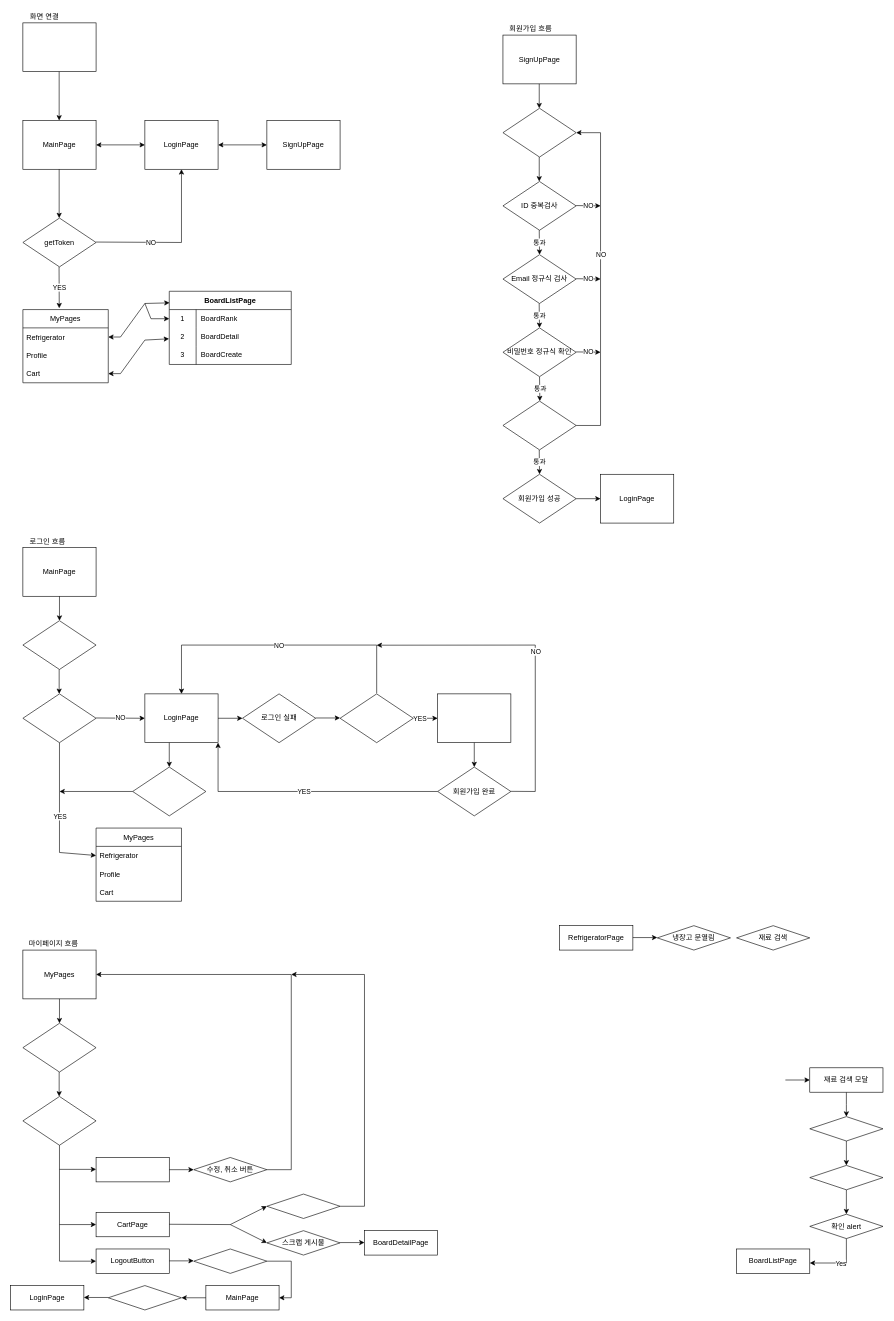
This 894x1321 diagram has some shape labels left out. Here are the shapes that lost their labels. From the top down, the box of each, then its label:
(22, 22, 96, 72): 웹 페이지 접속
(502, 108, 576, 157): 회원정보 입력
(502, 400, 576, 450): 닉네임 중복검사
(22, 620, 96, 669): 클릭 이벤트
(22, 693, 96, 743): 로그인 유무
(339, 693, 413, 743): 회원가입 알림
(437, 693, 511, 743): SignUpPages
(132, 766, 206, 816): 로그인 성공
(22, 1023, 96, 1072): 아이콘 클릭
(22, 1096, 96, 1145): 드롭다운 메뉴
(809, 1116, 883, 1141): 재료 추가
(95, 1157, 169, 1182): ProfilePage
(809, 1165, 883, 1190): 저장
(266, 1193, 340, 1218): 뒤로가기
(193, 1248, 267, 1273): Token 소멸
(108, 1285, 181, 1310): onClick
